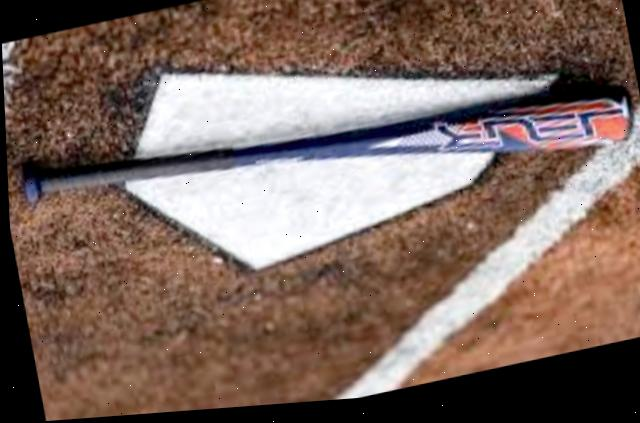baseball bat: (20, 105, 628, 201)
